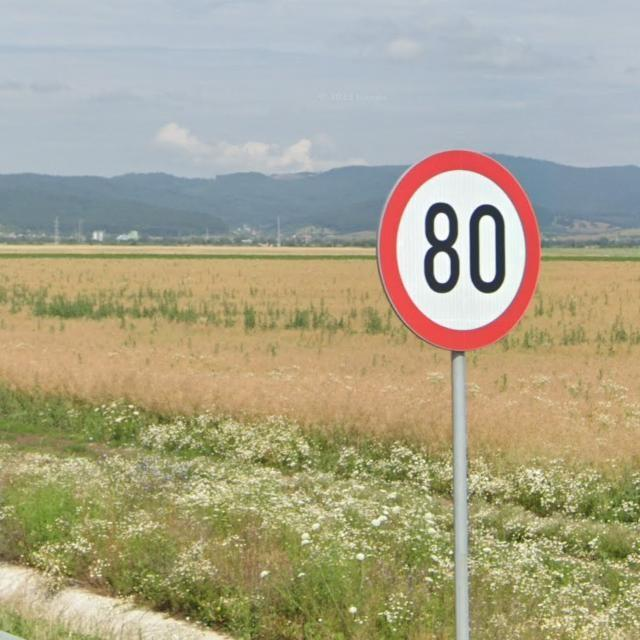forb_speed_over_80: (374, 146, 544, 353)
